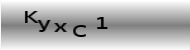1: (95, 17, 108, 29)
C: (72, 24, 87, 37)
K: (23, 9, 38, 23)
x: (53, 22, 67, 33)
y: (36, 19, 51, 32)
